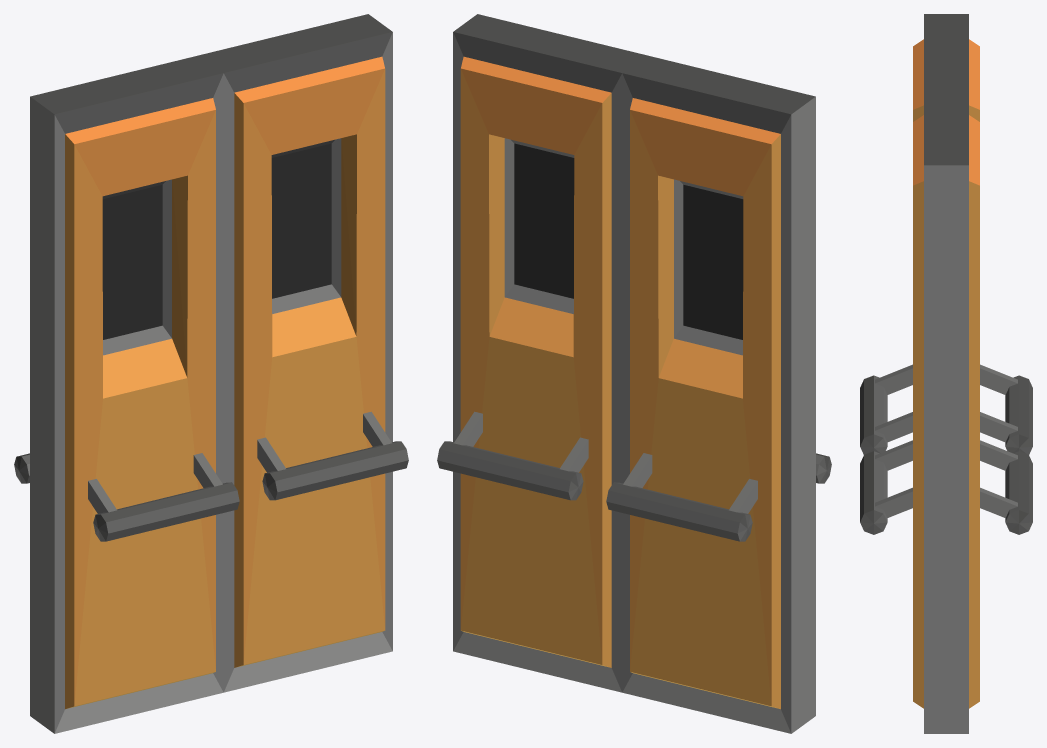
File: kkr_door_dbl.obj
3 renders of one model, left to right at view 1: azimuth 30°, elevation 25°; view 2: azimuth 150°, elevation 25°; view 3: azimuth 270°, elevation 25°, orthographic. The views are drawn at different scales.
Visible parts, largest first — view 1: door_dbl; view 2: door_dbl; view 3: door_dbl.
Boxes of the visible parts, bbox=[...] form: door_dbl: bbox=[14, 14, 408, 733]; door_dbl: bbox=[437, 14, 831, 733]; door_dbl: bbox=[860, 14, 1032, 733].
Size of the model in its own units: 1.6 by 2.8 by 0.7714.
